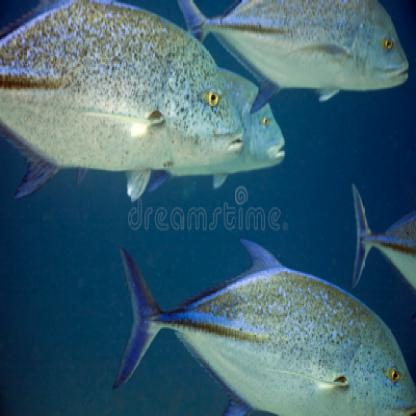jack: (105, 220, 416, 416), (1, 1, 249, 174), (179, 4, 416, 115)
